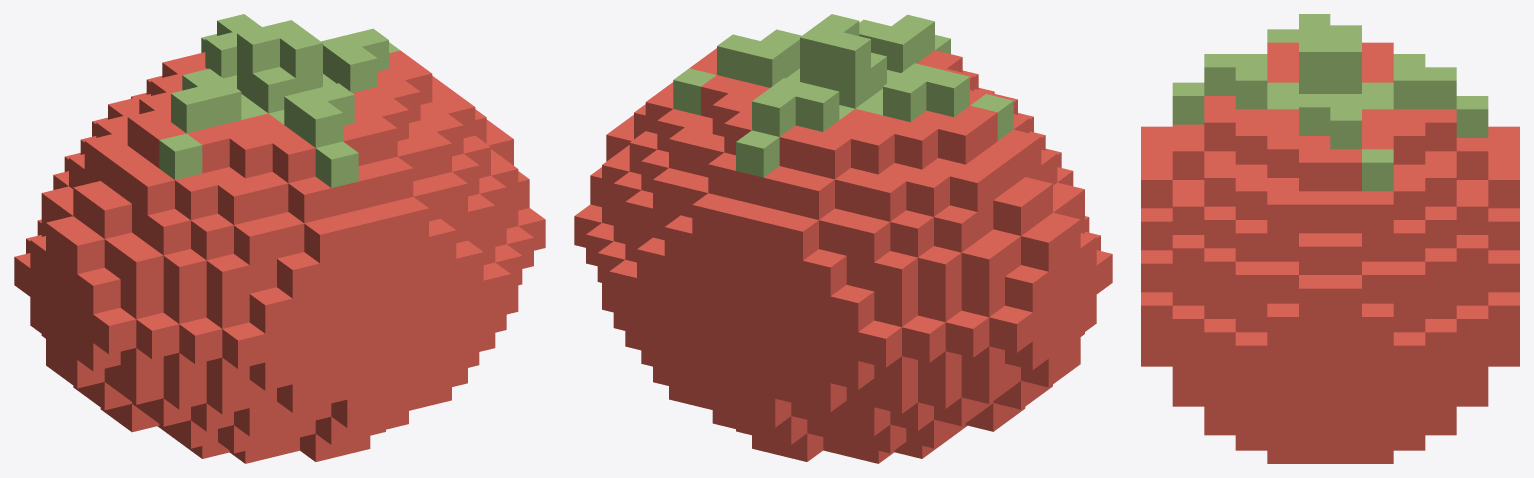
Rendered from Tomaco.fbx.
3 renders of one model, left to right at view 1: azimuth 30°, elevation 25°; view 2: azimuth 150°, elevation 25°; view 3: azimuth 270°, elevation 25°, orthographic.
Visible parts, largest first — view 1: tomaco_16x13x12; view 2: tomaco_16x13x12; view 3: tomaco_16x13x12.
Part boxes in pixels (box(x1,y1,x2,y2)): tomaco_16x13x12: box(14, 14, 545, 463); tomaco_16x13x12: box(574, 14, 1112, 463); tomaco_16x13x12: box(1141, 14, 1519, 463).
Size of the model in its own units: 1067 by 867 by 800.
